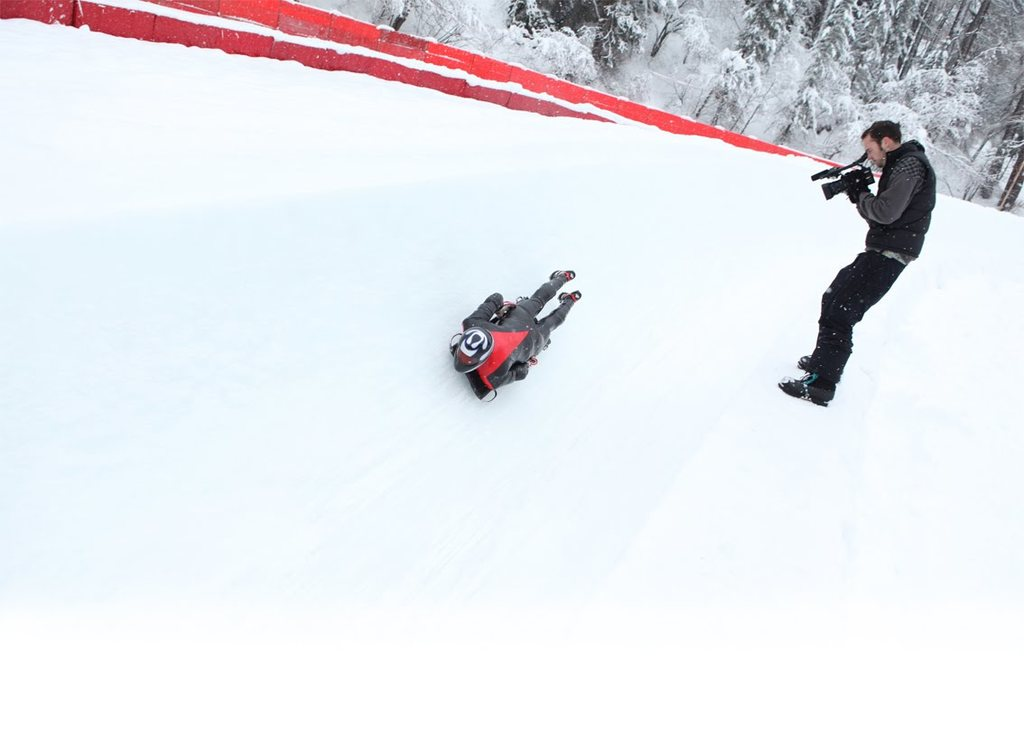Person: (777, 119, 936, 406), (452, 269, 583, 390)
